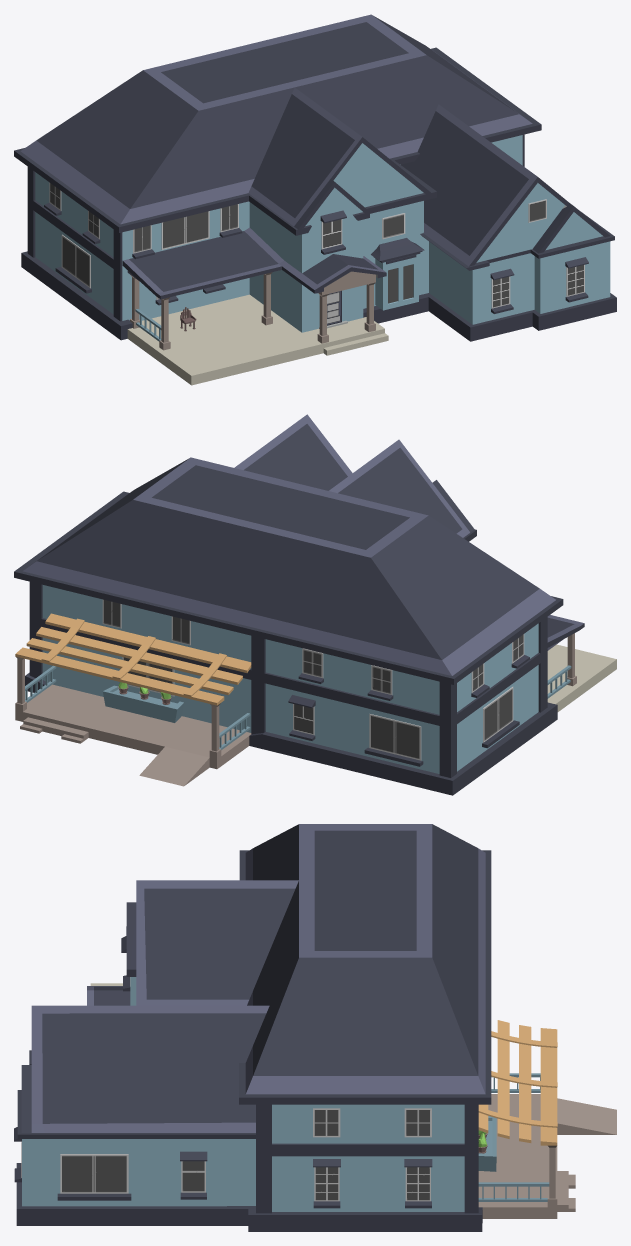
File: house05_color02.fbx
3 views of the same model, one above another, from view 1: azimuth 30°, elevation 25°; view 2: azimuth 150°, elevation 25°; view 3: azimuth 270°, elevation 25° (orthographic). The views are drawn at different scales.
Parts seen in each view (by area): view 1: Cube.406; view 2: Cube.406; view 3: Cube.406.
Part boxes in pixels (box(x1,y1,x2,y2)): Cube.406: box(14, 14, 616, 385); Cube.406: box(14, 414, 616, 795); Cube.406: box(14, 824, 616, 1231).
Bounding box in the file's own units: 2864 × 1219 × 2952.
